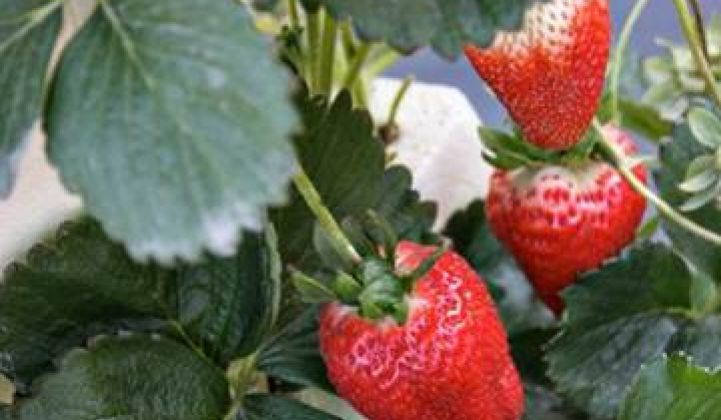ripe_strawberry: (321, 240, 527, 420), (482, 121, 651, 323), (462, 1, 611, 155)
